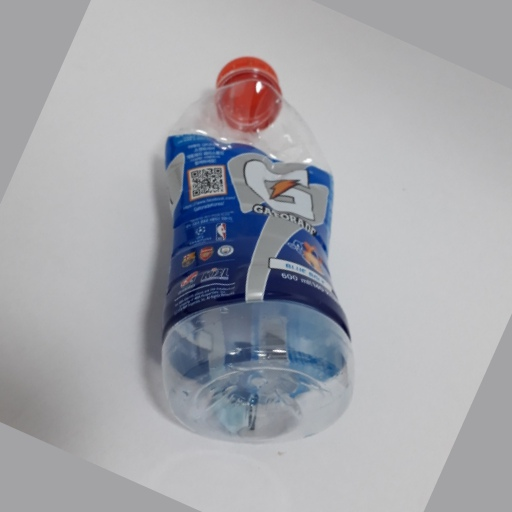Plastic_0: (159, 55, 357, 448)
